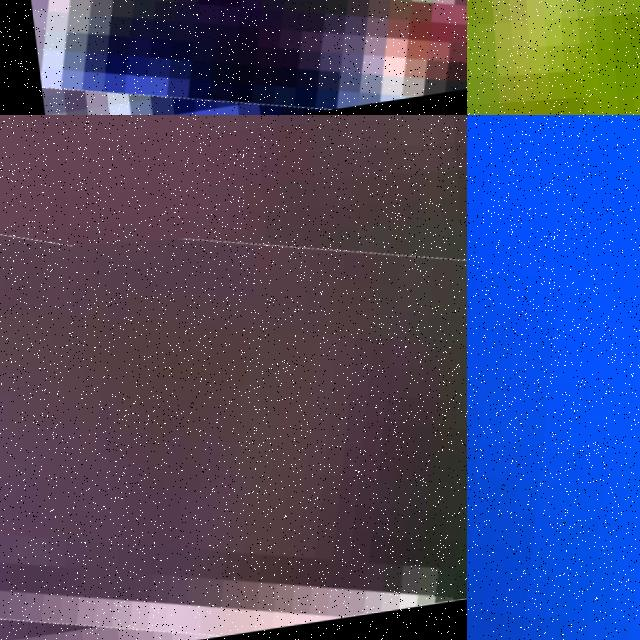0: (0, 214, 467, 640), (0, 0, 467, 115)
drone: (467, 115, 640, 640)
